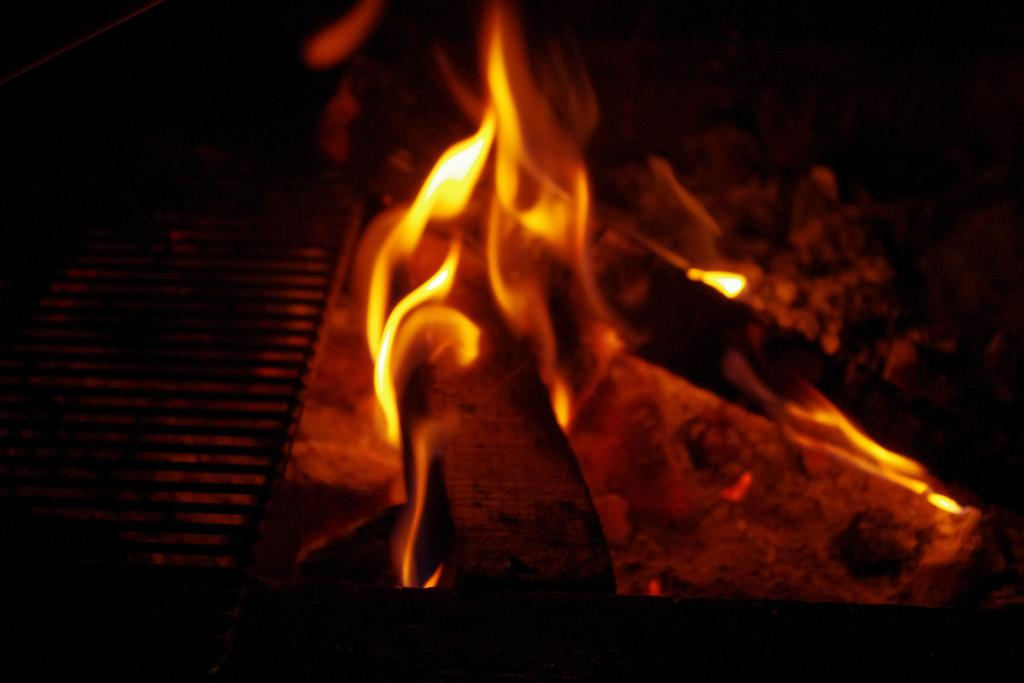fire: (443, 128, 590, 243), (370, 260, 463, 363)
